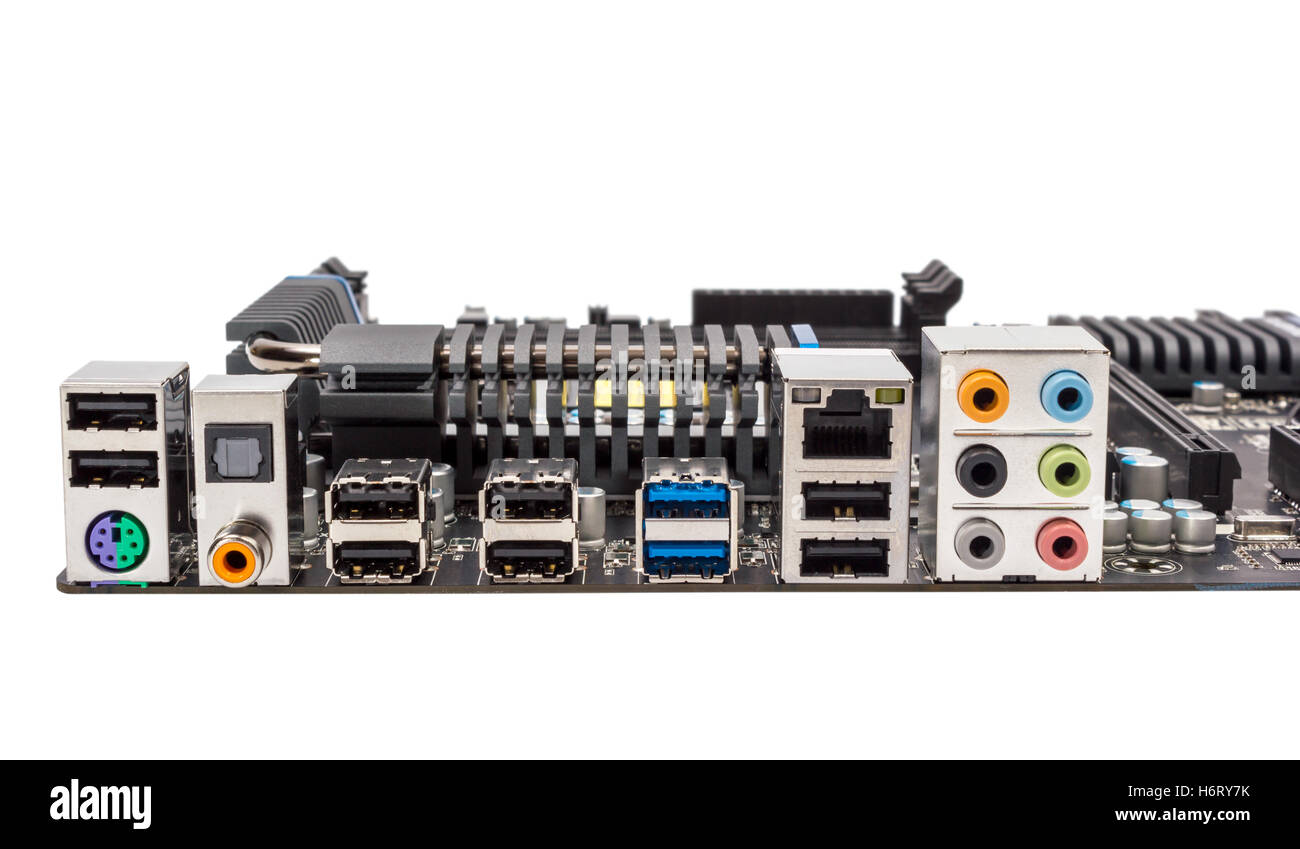Audio: (1032, 362, 1096, 424), (952, 364, 1013, 424), (1036, 442, 1096, 499), (952, 441, 1009, 497), (1035, 516, 1093, 569), (952, 517, 1006, 569)
Ethernet: (793, 387, 908, 464)
USB: (791, 474, 901, 522), (793, 537, 901, 582), (641, 476, 739, 525), (642, 536, 733, 585), (330, 536, 425, 582), (480, 487, 581, 530), (483, 536, 581, 580), (64, 448, 164, 491), (64, 395, 159, 434), (327, 487, 429, 522), (947, 614, 949, 615)
